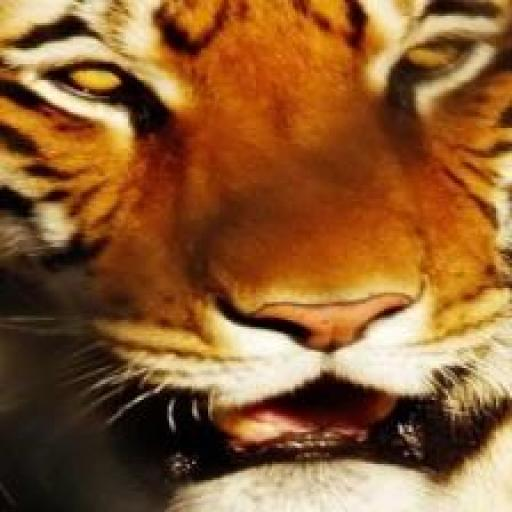Tiger: (0, 4, 512, 508)
